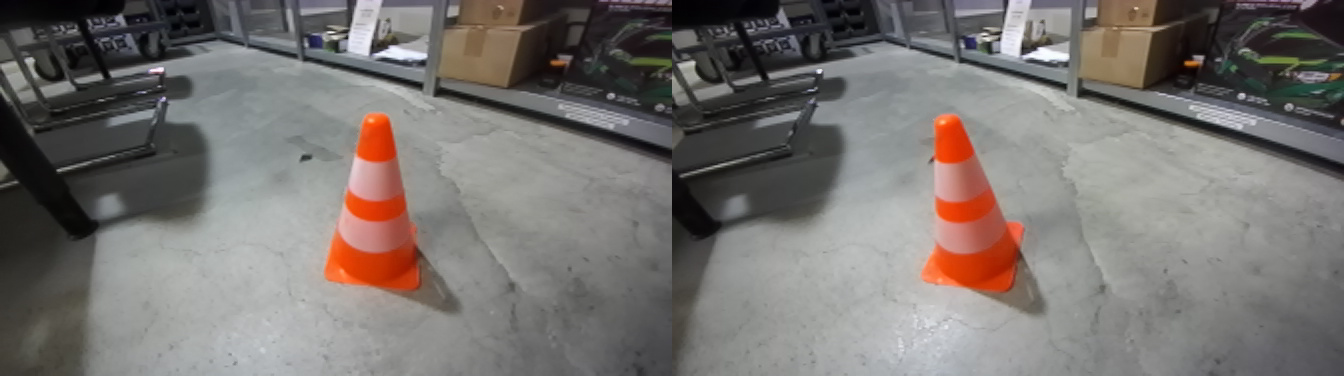cone: (918, 123, 1032, 301), (326, 120, 425, 298)
